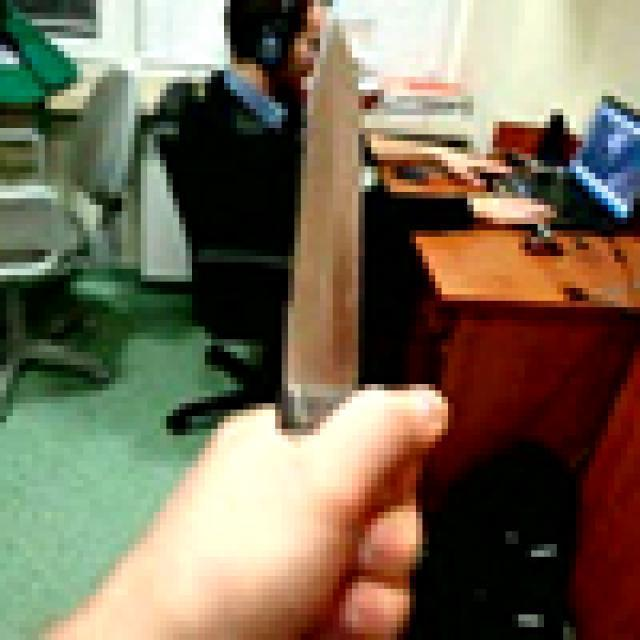Knife: (237, 13, 448, 583)
